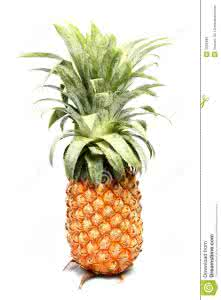pineapple: (37, 25, 150, 281)
